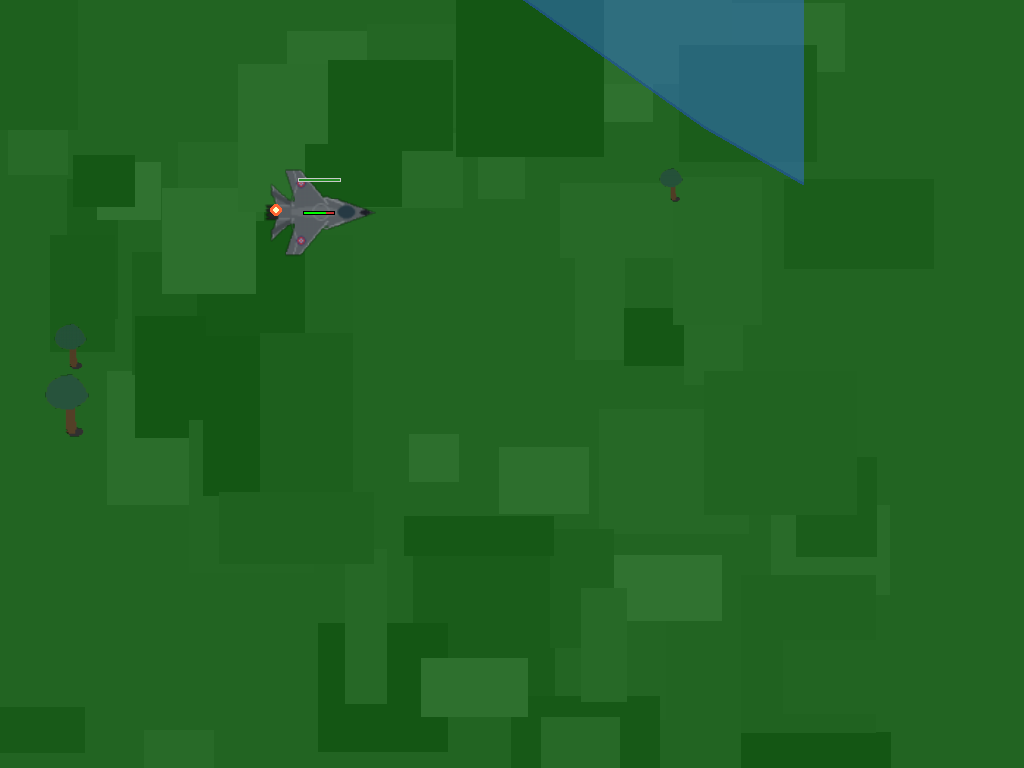FighterJet_usa: (292, 182, 347, 237)
Lake: (501, 0, 804, 252)
